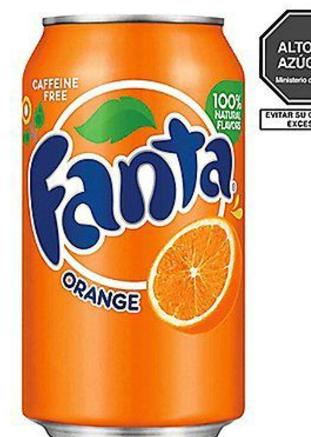brand: (27, 121, 263, 272)
product_name: (56, 268, 148, 317)
